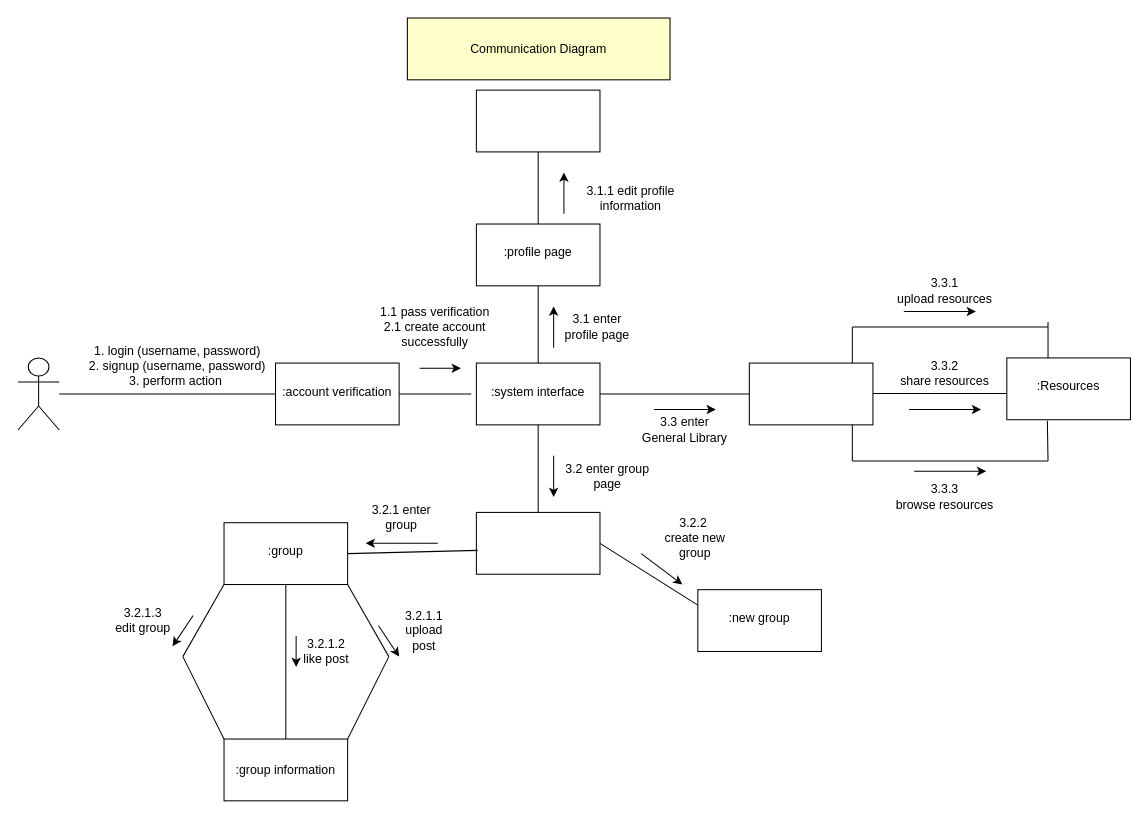
This 1148x819 diagram has some shape labels left out. The shapes that lost their labels are listed below. From the top down, each one's centre as x and y in pixels, then its label:
At [537,120]: ":profile information".
At [38,393]: "User".
At [810,393]: ":General Library".
At [537,542]: ":group page".
